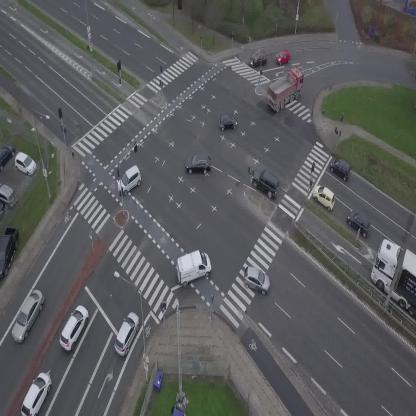car: (6, 287, 49, 345), (54, 302, 94, 353), (16, 370, 56, 416), (109, 310, 143, 357), (246, 164, 286, 201), (237, 263, 276, 297), (111, 164, 147, 197), (342, 208, 375, 238), (309, 183, 340, 211), (326, 154, 356, 181), (185, 154, 211, 174), (247, 50, 269, 67), (273, 48, 292, 66), (219, 114, 237, 130)
lorry: (371, 239, 416, 316), (259, 64, 313, 114), (171, 247, 215, 289)
